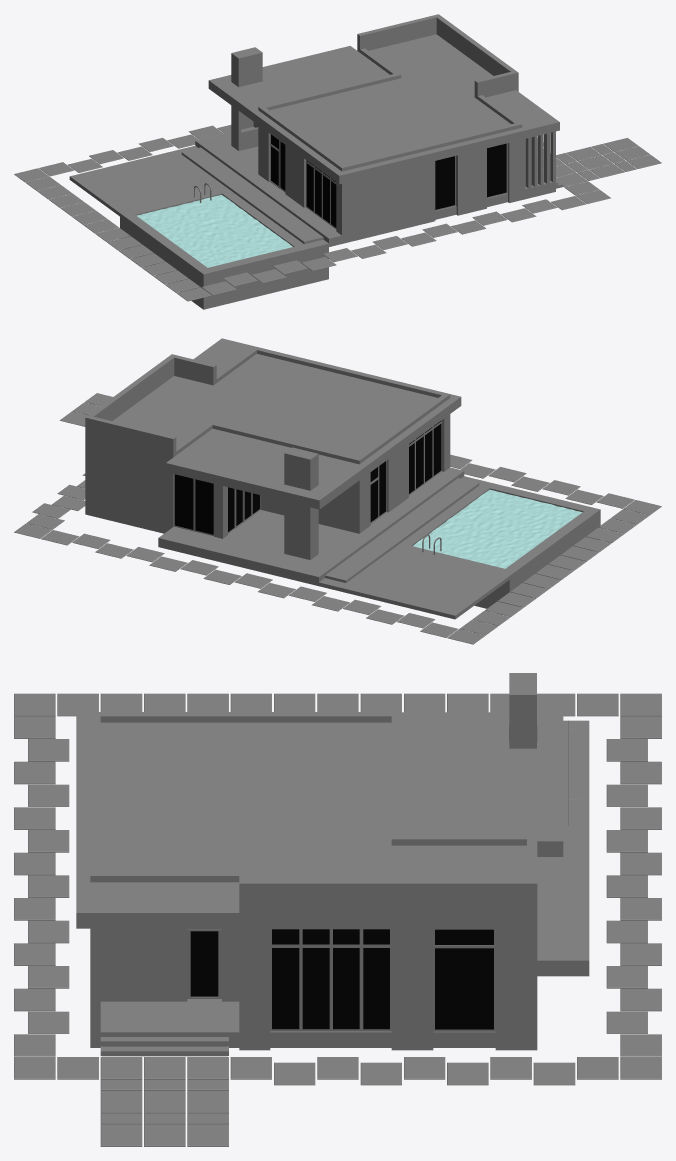
Rendered from house.glb.
3 renders of one model, top to bottom at view 1: azimuth 30°, elevation 25°; view 2: azimuth 150°, elevation 25°; view 3: azimuth 270°, elevation 25°, orthographic. The views are drawn at different scales.
Visible parts, largest first — view 1: cottage, walkway, water, pool, ceramic tile, Planks, window_glass_005, window_glass_01, window_glass_002, window_glass_006; view 2: cottage, walkway, water, ceramic tile, Planks, pool, window_glass_007, window_glass_005, window_glass_008, window_glass_006, window_frame_05; view 3: cottage, walkway, window_glass_003, window_glass_004, window_frame_03, ceramic tile, door_glass_001, window_frame_04, door_frame_001.
Part boxes in pixels (box(x1,y1,x2,y2)): cottage: box(181, 14, 562, 246); walkway: box(14, 125, 661, 301); water: box(137, 195, 292, 267); pool: box(69, 177, 328, 309); ceramic tile: box(70, 146, 328, 274); Planks: box(85, 157, 215, 210); window_glass_005: box(306, 161, 336, 227); window_glass_01: box(435, 156, 454, 209); window_glass_002: box(487, 143, 506, 197); window_glass_006: box(271, 134, 285, 190); cottage: box(85, 338, 479, 586); walkway: box(14, 393, 661, 644); water: box(413, 489, 581, 568); ceramic tile: box(319, 476, 600, 615); Planks: box(357, 550, 498, 608); pool: box(319, 488, 600, 619); window_glass_007: box(175, 474, 213, 534); window_glass_005: box(409, 421, 441, 493); window_glass_008: box(228, 487, 259, 532); window_glass_006: box(370, 461, 385, 522); window_frame_05: box(409, 420, 441, 495); cottage: box(76, 673, 589, 1056); walkway: box(14, 693, 661, 1146); window_glass_003: box(272, 929, 389, 1029); window_glass_004: box(435, 929, 493, 1029); window_frame_03: box(270, 928, 391, 1031); ceramic tile: box(563, 720, 589, 825); door_glass_001: box(190, 931, 218, 996); window_frame_04: box(433, 928, 495, 1031); door_frame_001: box(187, 928, 221, 998).
Size of the model in its own units: 30900 by 7900 by 18700.
